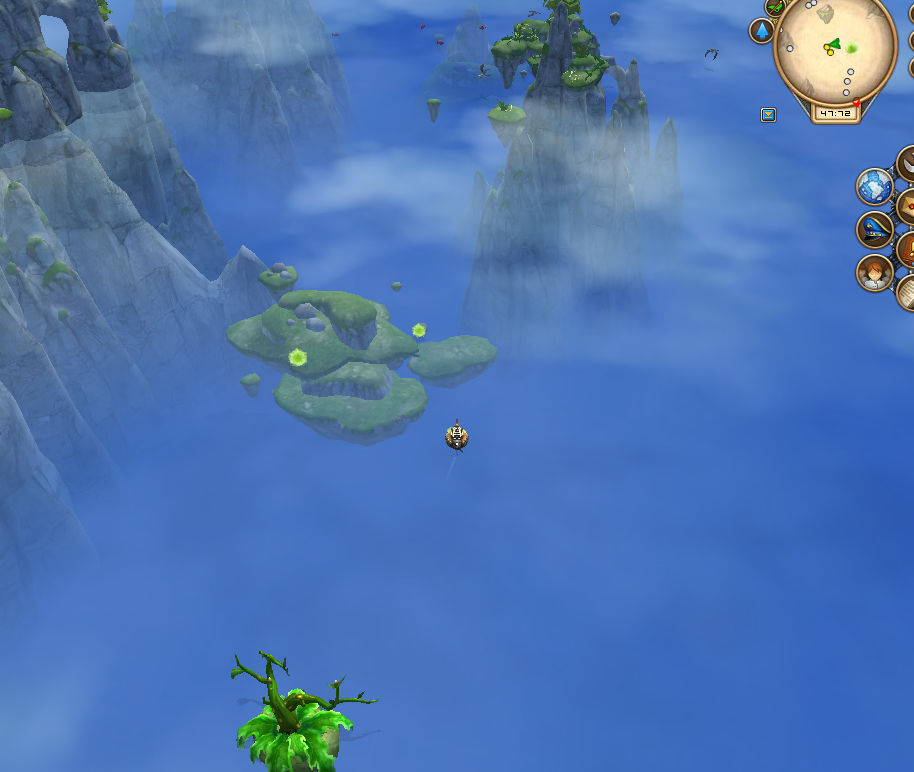dandelion-empty: (219, 646, 379, 772)
fluff: (281, 344, 311, 367), (410, 315, 428, 341)
